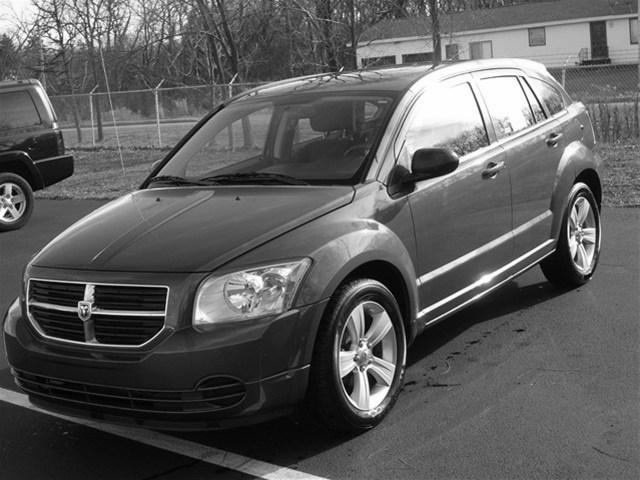car: (5, 60, 602, 437)
